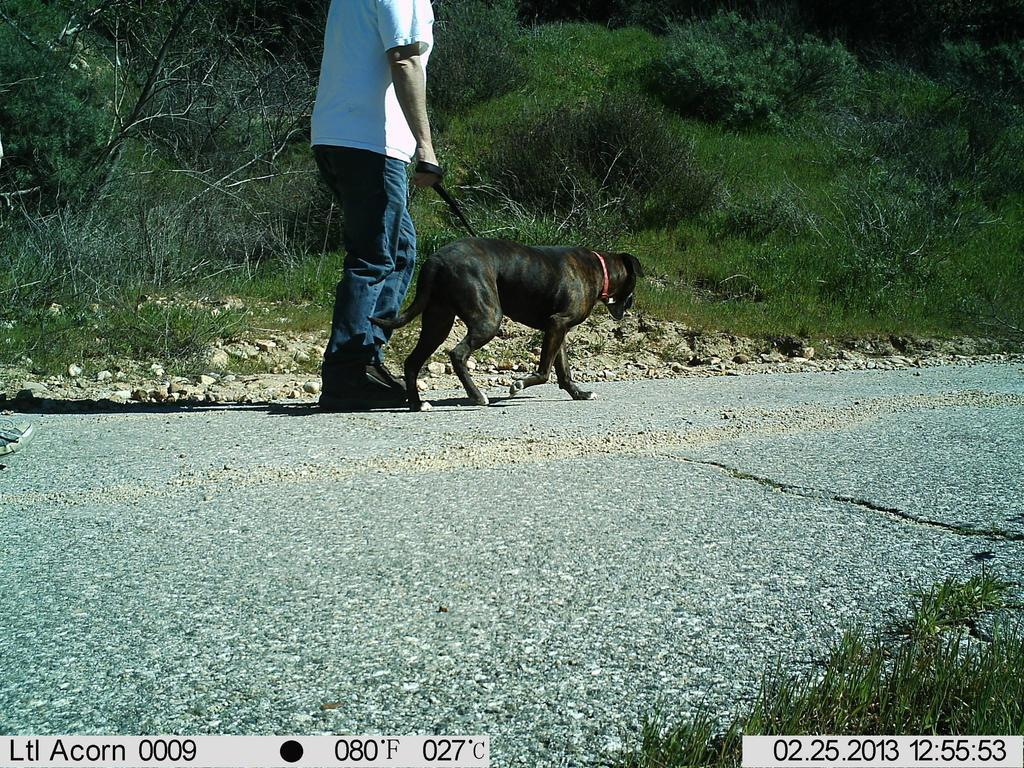dog: (361, 226, 660, 419)
